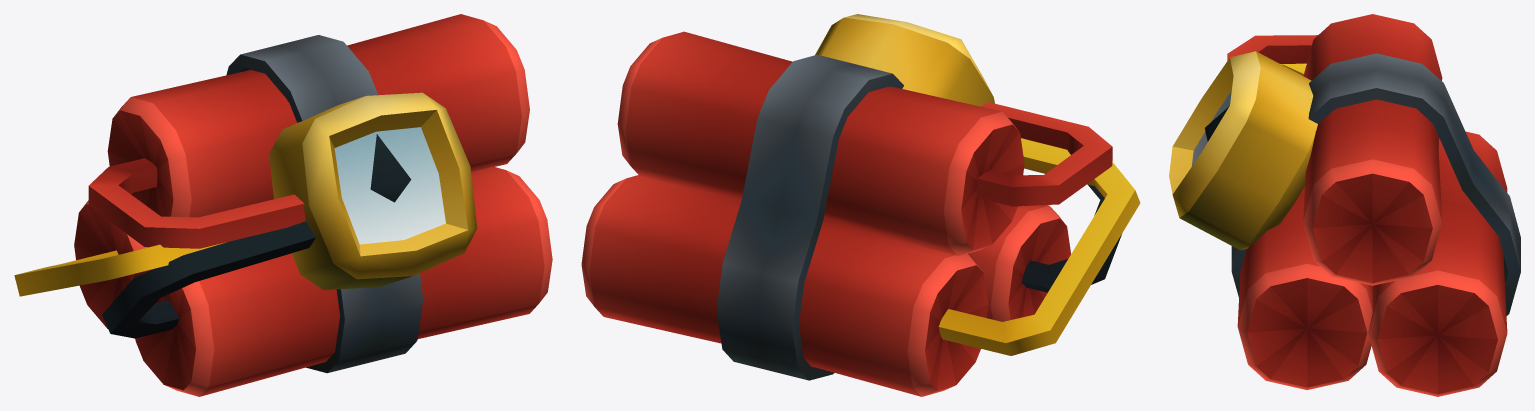
Rendered from time_bomb.fbx.
3 renders of one model, left to right at view 1: azimuth 30°, elevation 25°; view 2: azimuth 150°, elevation 25°; view 3: azimuth 270°, elevation 25°, orthographic. The views are drawn at different scales.
Visible parts, largest first — view 1: time_bomb, time_bomb_hand; view 2: time_bomb; view 3: time_bomb.
Boxes of the visible parts, x1,y1,x2,y2 form: time_bomb: (14,14,552,396); time_bomb_hand: (370,134,411,202); time_bomb: (581,14,1140,396); time_bomb: (1169,14,1520,396).
Bounding box in the file's own units: 110 × 65.64 × 81.12.
